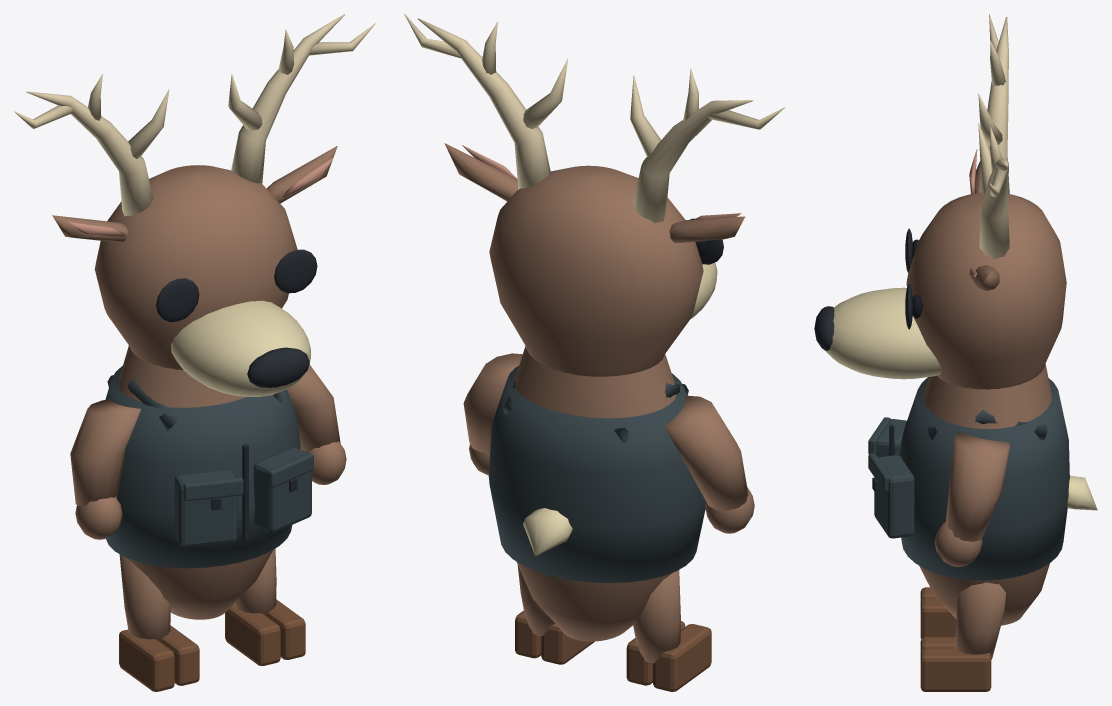
File: reindeer.glb
3 views of the same model, side by side, from view 1: azimuth 30°, elevation 25°; view 2: azimuth 150°, elevation 25°; view 3: azimuth 270°, elevation 25° (orthographic). The views are drawn at different scales.
Parts seen in each view (by area): view 1: Head_mesh, Gear_Vest_mesh, Deform_mesh, LeftFoot_mesh, RightFoot_mesh, common_reindeer_leftArm_mesh, Gear_Glasses_mesh, common_reindeer_rightArm_mesh, common_reindeer_leftPaw_mesh, common_reindeer_rightPaw_mesh; view 2: Head_mesh, Gear_Vest_mesh, Deform_mesh, LeftFoot_mesh, common_reindeer_leftArm_mesh, RightFoot_mesh, common_reindeer_rightArm_mesh, common_reindeer_leftPaw_mesh; view 3: Head_mesh, Gear_Vest_mesh, Deform_mesh, RightFoot_mesh, common_reindeer_rightArm_mesh, LeftFoot_mesh, common_reindeer_rightPaw_mesh, Gear_Glasses_mesh.
Part boxes in pixels (x1,y1,x2,y2): Head_mesh: (14, 14, 375, 396); Gear_Vest_mesh: (105, 365, 313, 568); Deform_mesh: (118, 346, 273, 619); LeftFoot_mesh: (119, 554, 199, 691); RightFoot_mesh: (225, 548, 305, 665); common_reindeer_leftArm_mesh: (70, 399, 140, 506); Gear_Glasses_mesh: (156, 249, 317, 321); common_reindeer_rightArm_mesh: (287, 364, 340, 451); common_reindeer_leftPaw_mesh: (75, 496, 122, 539); common_reindeer_rightPaw_mesh: (305, 441, 346, 484); Head_mesh: (404, 14, 785, 376); Gear_Vest_mesh: (488, 366, 705, 582); Deform_mesh: (514, 346, 676, 641); LeftFoot_mesh: (626, 570, 711, 691); common_reindeer_leftArm_mesh: (664, 395, 748, 510); RightFoot_mesh: (515, 565, 594, 664); common_reindeer_rightArm_mesh: (463, 353, 522, 452); common_reindeer_leftPaw_mesh: (705, 487, 754, 533); Head_mesh: (814, 14, 1066, 389); Gear_Vest_mesh: (868, 377, 1069, 580); Deform_mesh: (919, 364, 1097, 625); RightFoot_mesh: (920, 582, 1005, 691); common_reindeer_rightArm_mesh: (946, 431, 1010, 541); LeftFoot_mesh: (920, 587, 956, 639); common_reindeer_rightPaw_mesh: (934, 521, 982, 566); Gear_Glasses_mesh: (905, 228, 912, 329).
Size of the model in its own units: 1.5 by 2.37 by 1.06.
